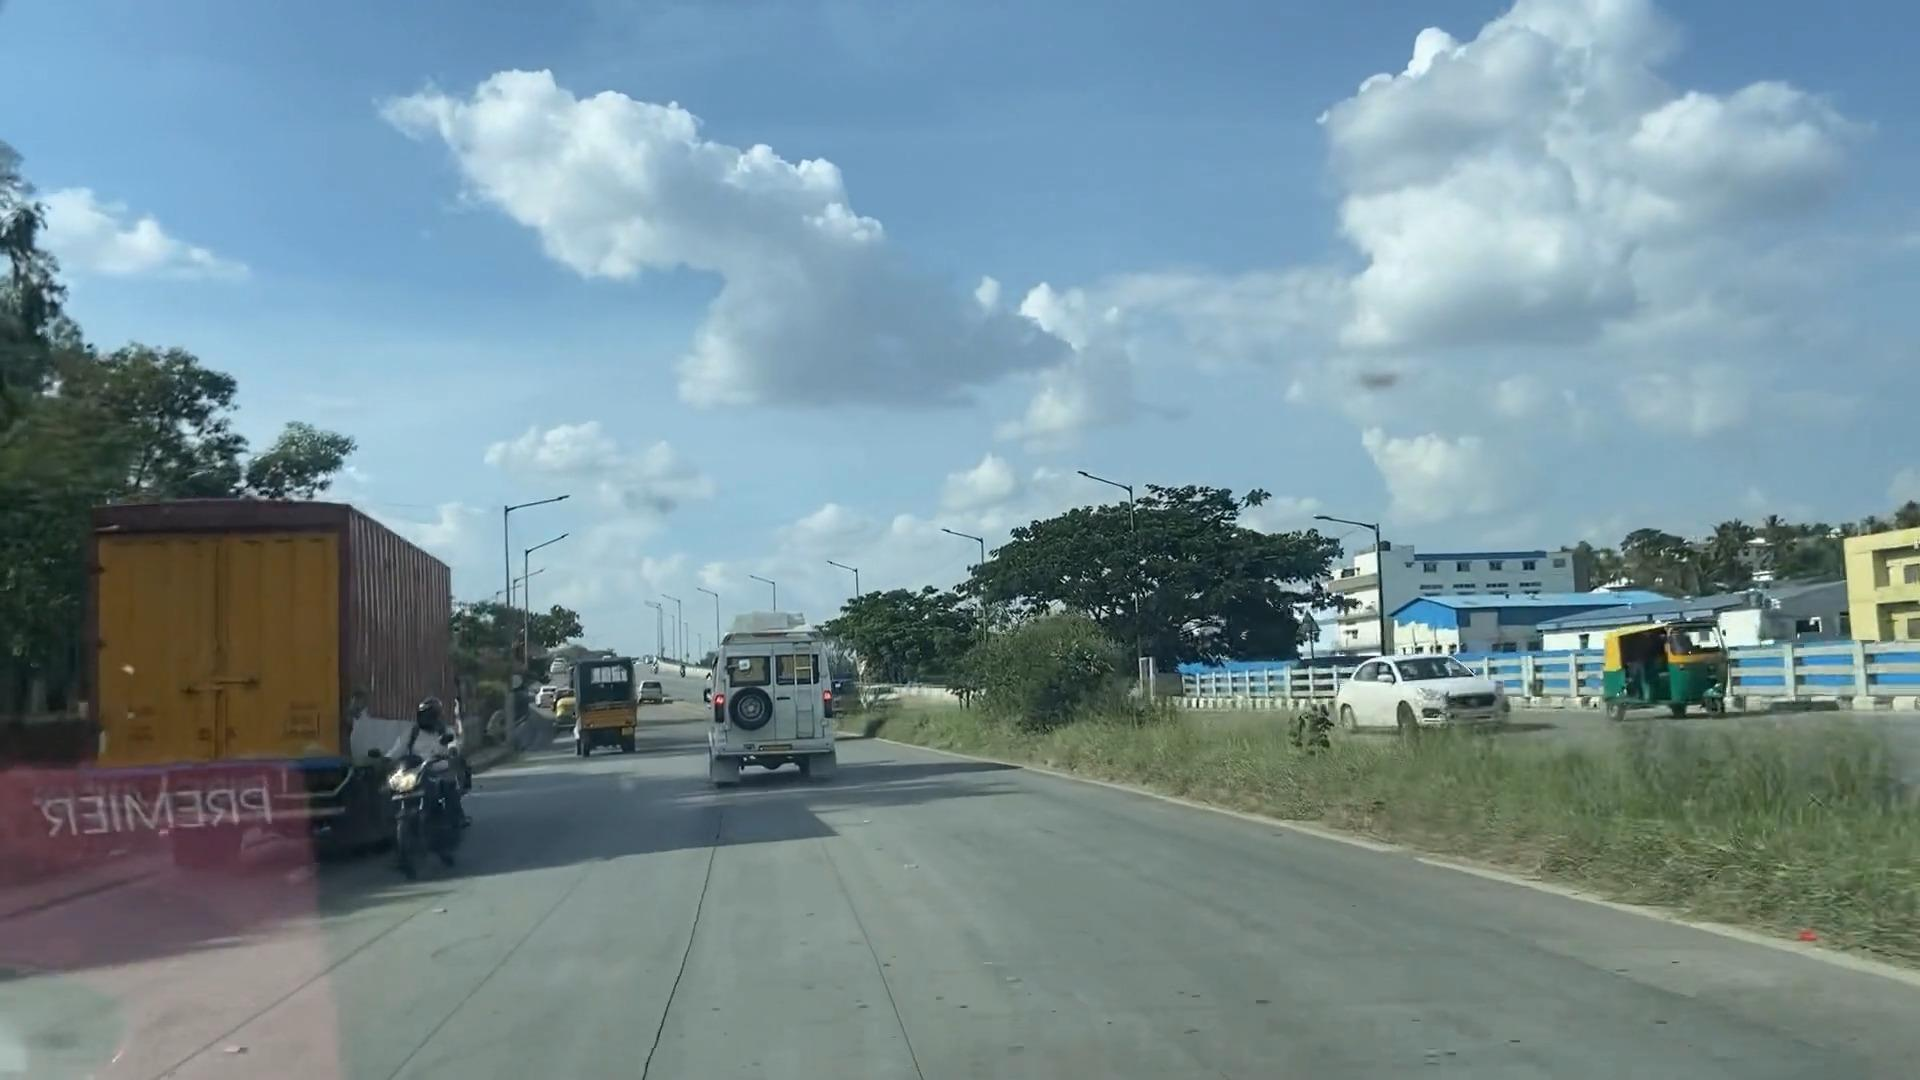HMV: (84, 492, 428, 863), (716, 598, 846, 797), (548, 648, 641, 771)
LMV: (380, 684, 468, 866)
